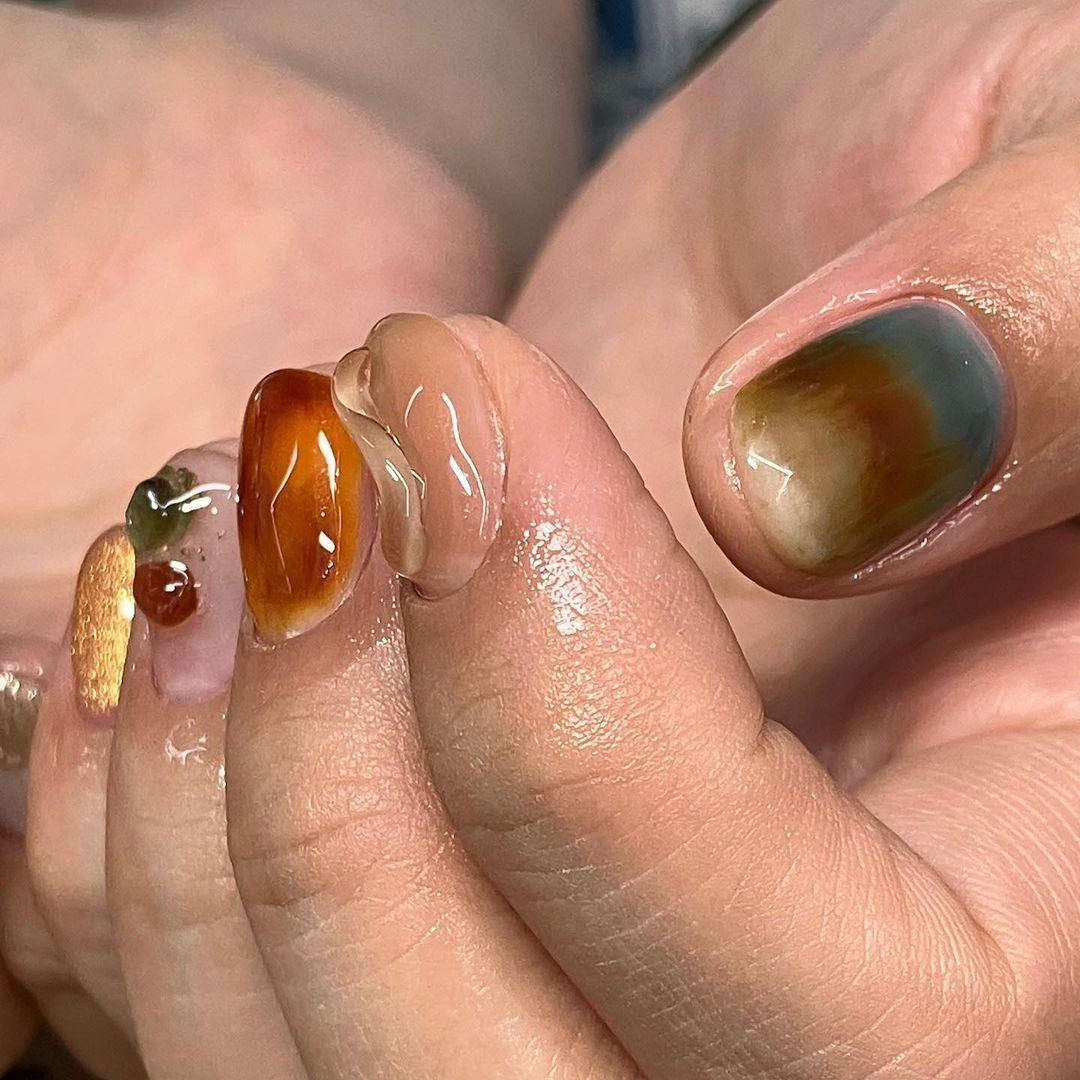nail: (235, 364, 379, 646), (67, 524, 136, 723)
